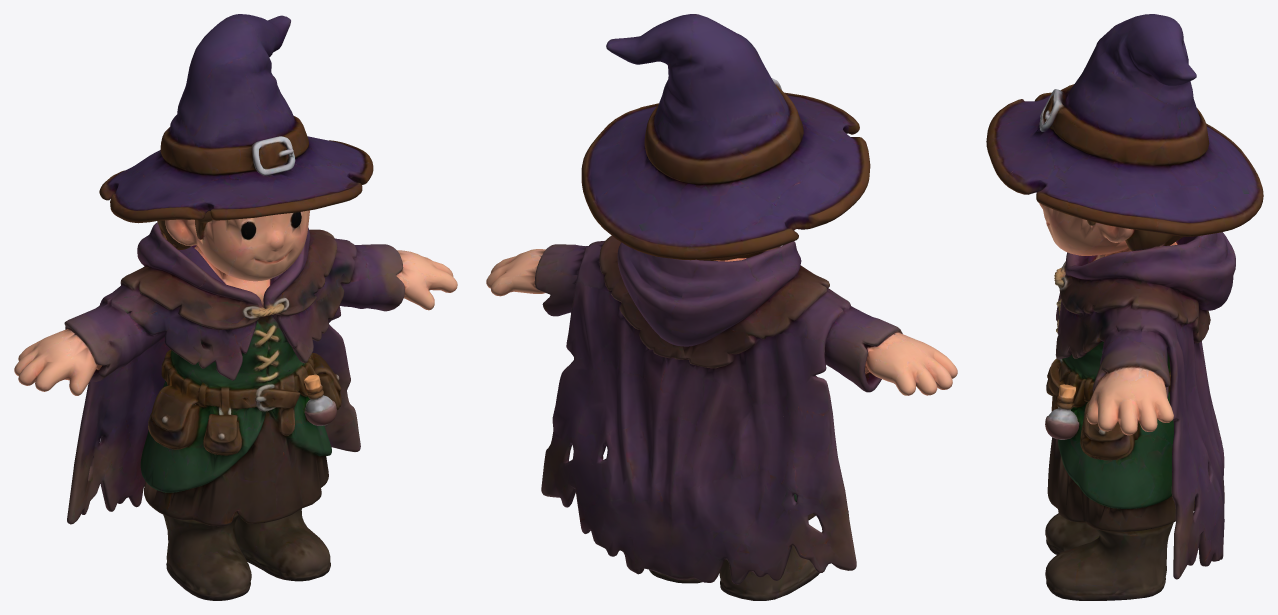
File: a3D-hechicera.glb
The picture shows the model from 3 angles, left to right: view 1: azimuth 30°, elevation 25°; view 2: azimuth 150°, elevation 25°; view 3: azimuth 270°, elevation 25°; orthographic projection. The views are drawn at different scales.
Parts seen in each view (by area): view 1: geometry_0; view 2: geometry_0; view 3: geometry_0.
Part boxes in pixels (x1,y1,x2,y2): geometry_0: (14,14,457,600); geometry_0: (486,14,957,600); geometry_0: (986,14,1263,600).
Size of the model in its own units: 1.62 by 1.9 by 0.8534.
Materials: 1 (1 with a texture image).
